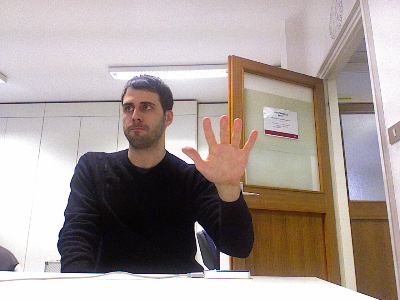布: (180, 114, 258, 187)
